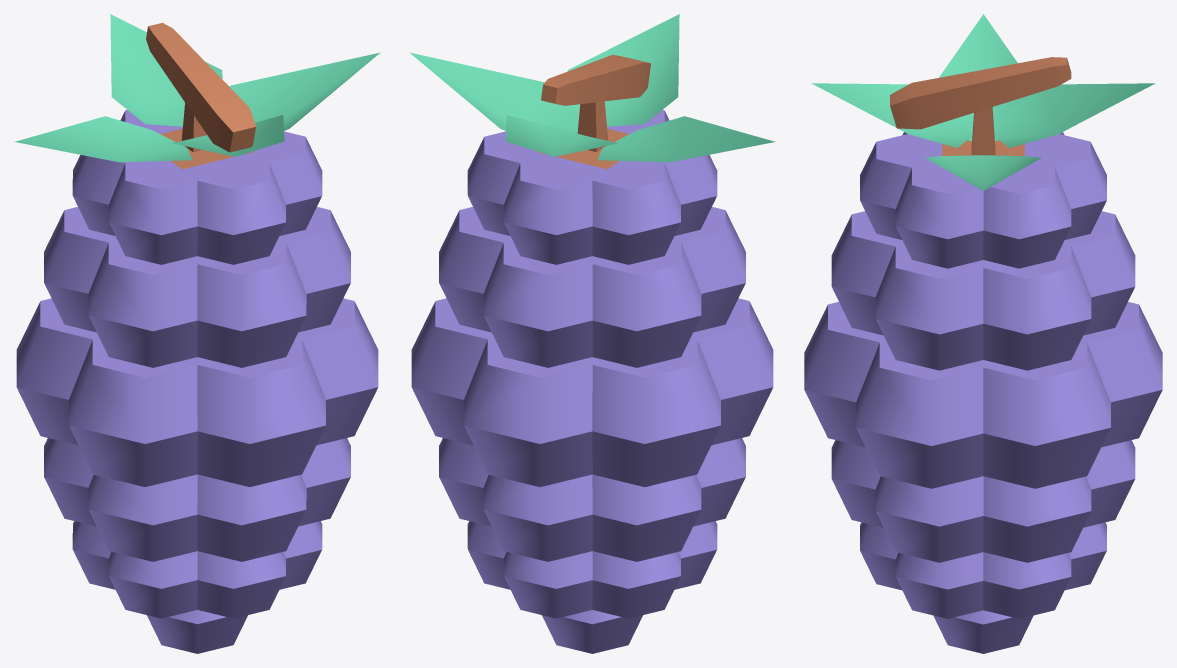
File: grapes.glb
3 views of the same model, side by side, from view 1: azimuth 30°, elevation 25°; view 2: azimuth 150°, elevation 25°; view 3: azimuth 270°, elevation 25° (orthographic).
Parts seen in each view (by area): view 1: grapes; view 2: grapes; view 3: grapes.
Part boxes in pixels (x1,y1,x2,y2): grapes: (14, 14, 379, 653); grapes: (410, 14, 775, 653); grapes: (804, 14, 1162, 653).
Bounding box in the file's own units: 0.279 × 0.4226 × 0.2386.
